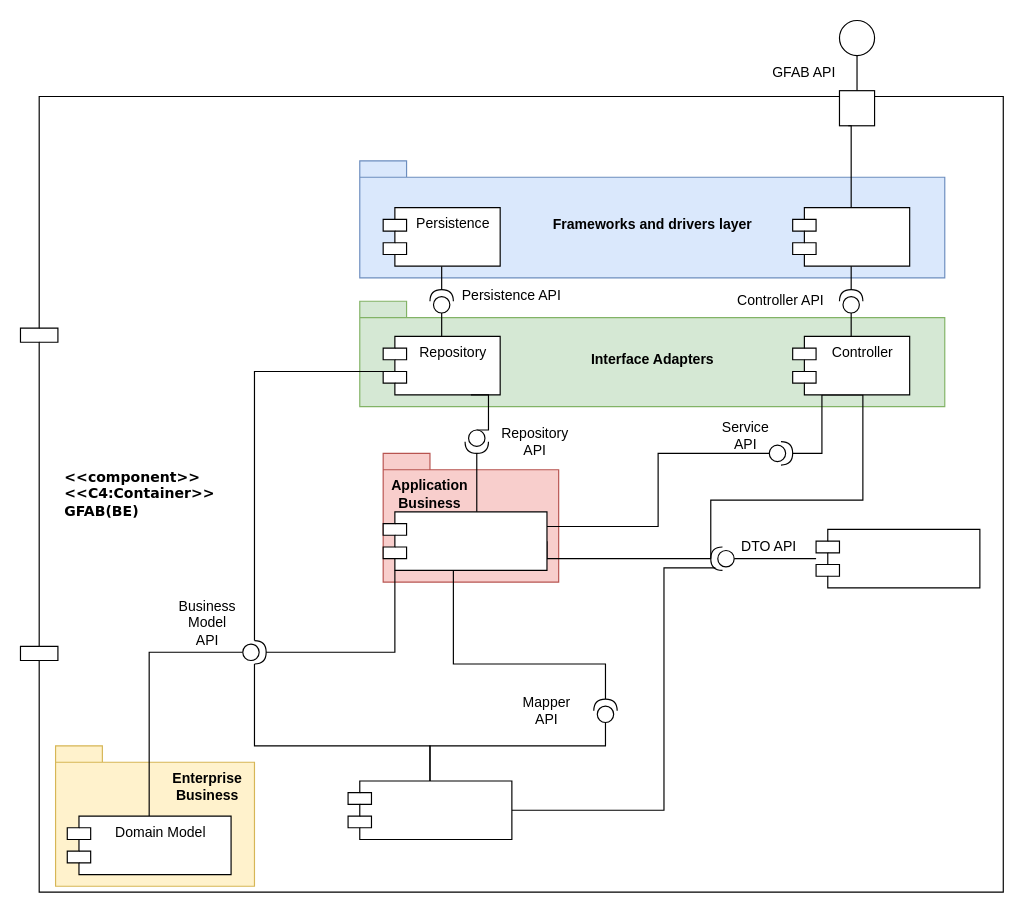
This 1024x913 diagram has some shape labels left out. The shapes that lost their labels are listed below. From the top down, each one's centre as x and y in pixels, then its label:
[851,236]: Routing
[464,540]: Application Service
[897,558]: DTO
[429,809]: Mappers
